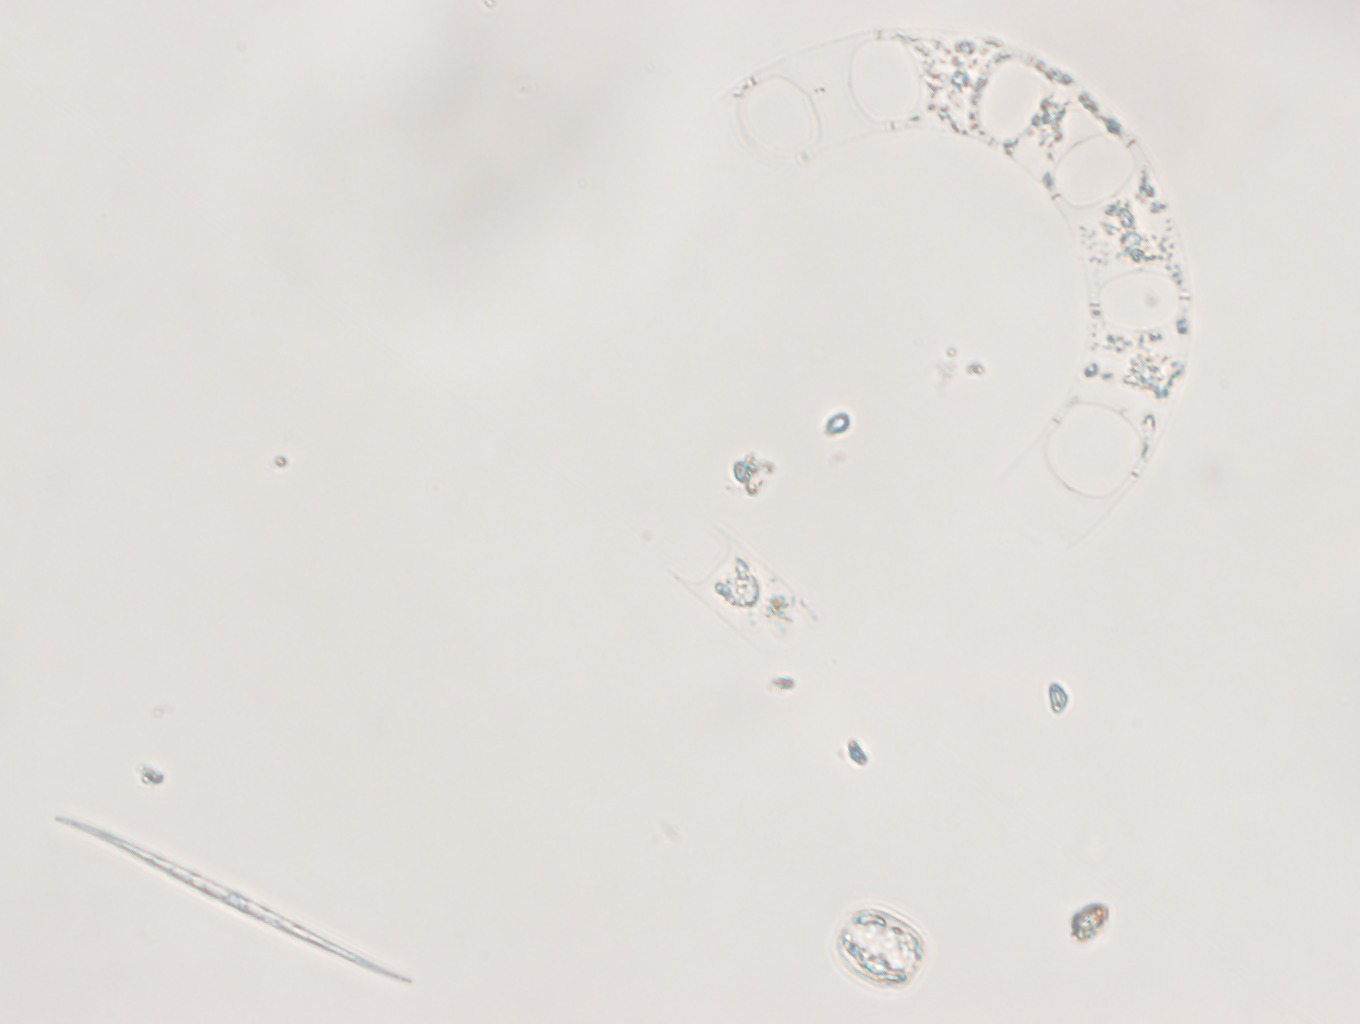eucampia: (722, 30, 1215, 504)
pleurosigma pelagicum: (35, 800, 418, 985)
